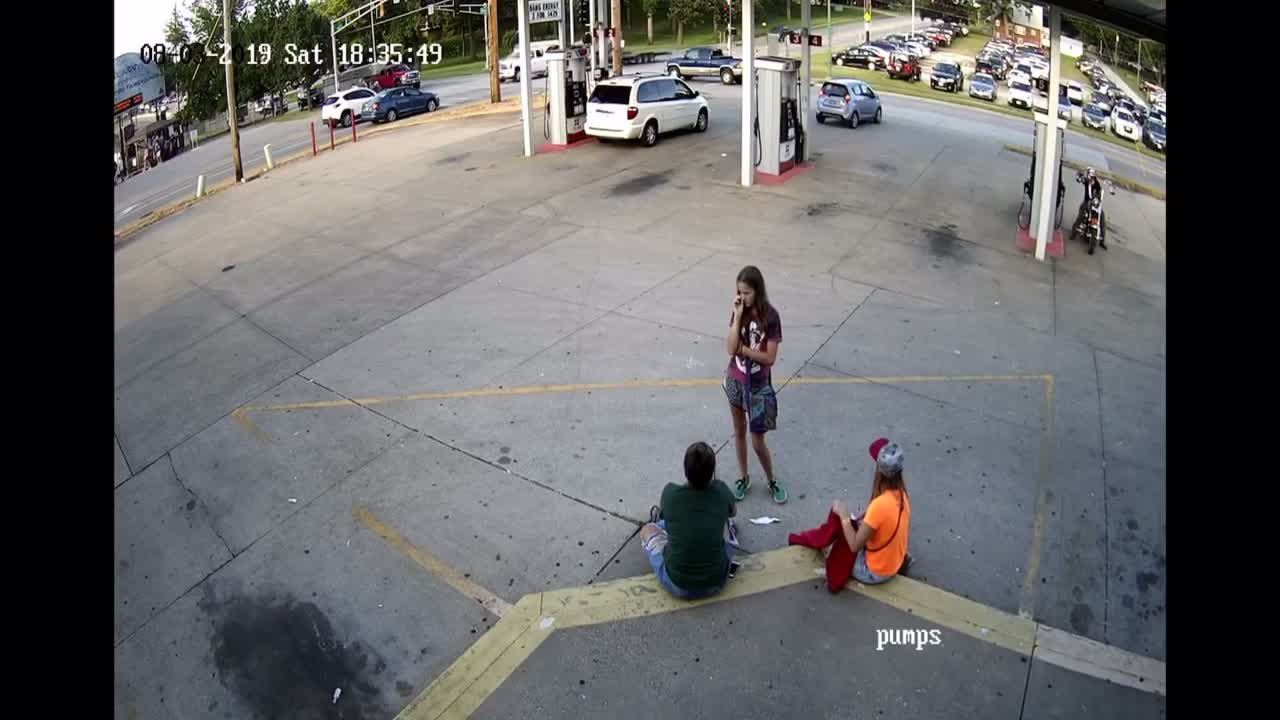Person: (701, 262, 809, 512), (639, 440, 755, 611), (832, 430, 918, 592)
